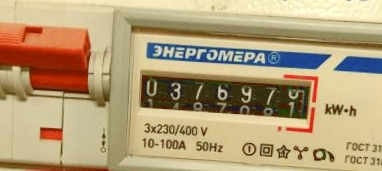0: (144, 77, 158, 97)
1: (285, 99, 297, 118)
3: (168, 80, 182, 101)
6: (215, 79, 229, 101)
7: (262, 84, 276, 107), (191, 79, 205, 101)
9: (239, 83, 252, 104)
screen: (129, 61, 322, 134)
